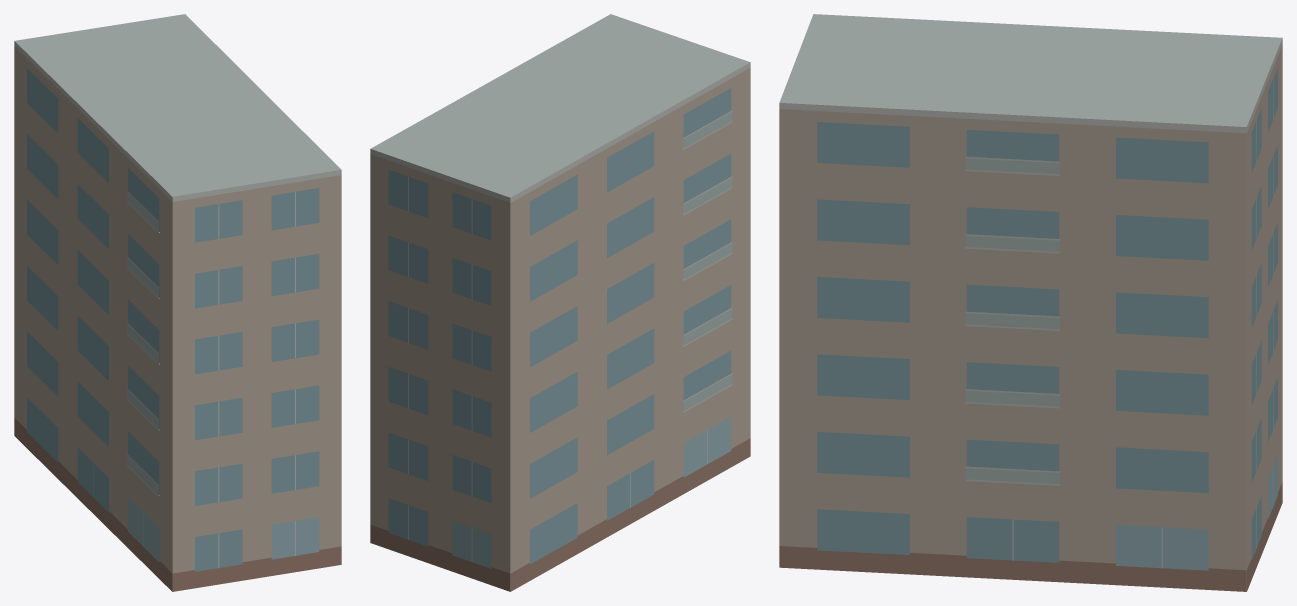
Rendered from survey-upis-32880297.glb.
3 renders of one model, left to right at view 1: azimuth 30°, elevation 25°; view 2: azimuth 150°, elevation 25°; view 3: azimuth 270°, elevation 25°, orthographic. The views are drawn at different scales.
Parts seen in each view (by area): view 1: survey-upis-32880297.tmp; view 2: survey-upis-32880297.tmp; view 3: survey-upis-32880297.tmp.
Part boxes in pixels (x1=…): survey-upis-32880297.tmp: x1=14, y1=14, x2=341, y2=591; survey-upis-32880297.tmp: x1=370, y1=14, x2=750, y2=591; survey-upis-32880297.tmp: x1=779, y1=14, x2=1282, y2=591.
Bounding box in the file's own units: 9.56 × 18.3 × 17.97.
